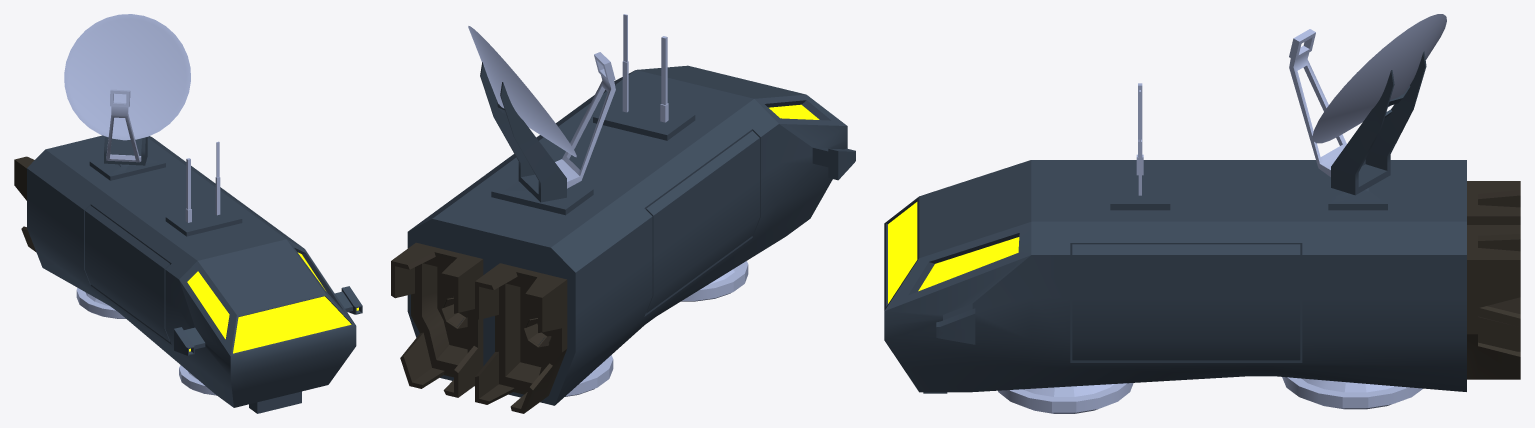
The model's file is Payload.fbx.
3 views of the same model, side by side, from view 1: azimuth 30°, elevation 25°; view 2: azimuth 150°, elevation 25°; view 3: azimuth 270°, elevation 25° (orthographic). The views are drawn at different scales.
Parts seen in each view (by area): view 1: Payload01; view 2: Payload01; view 3: Payload01.
Part boxes in pixels (<box>): Payload01: <box>14,14,362,413</box>; Payload01: <box>391,14,855,413</box>; Payload01: <box>884,14,1520,413</box>.
Size of the model in its own units: 388 by 575 by 851.
